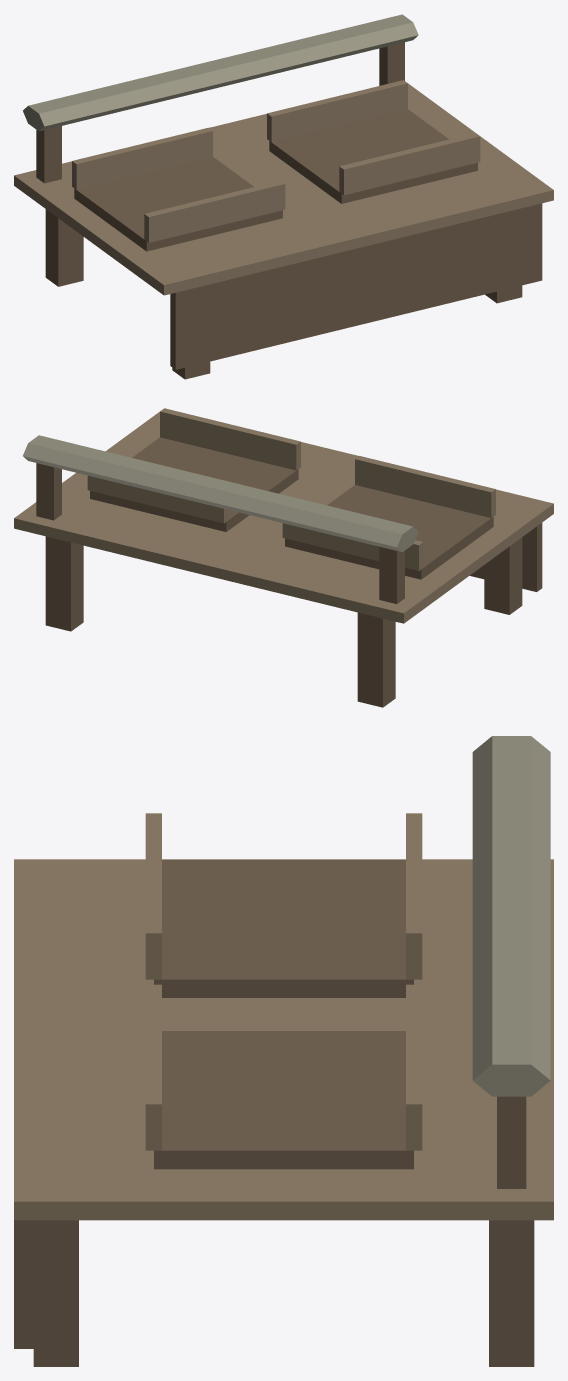
The model's file is market_stall.glb.
3 renders of one model, top to bottom at view 1: azimuth 30°, elevation 25°; view 2: azimuth 150°, elevation 25°; view 3: azimuth 270°, elevation 25°, orthographic. The views are drawn at different scales.
Visible parts, largest first — view 1: market_stall; view 2: market_stall; view 3: market_stall.
Part boxes in pixels (x1,y1,x2,y2): market_stall: [14, 14, 553, 379]; market_stall: [14, 408, 553, 707]; market_stall: [14, 736, 553, 1366].
Bounding box in the file's own units: 2.88 × 1.25 × 1.92.
